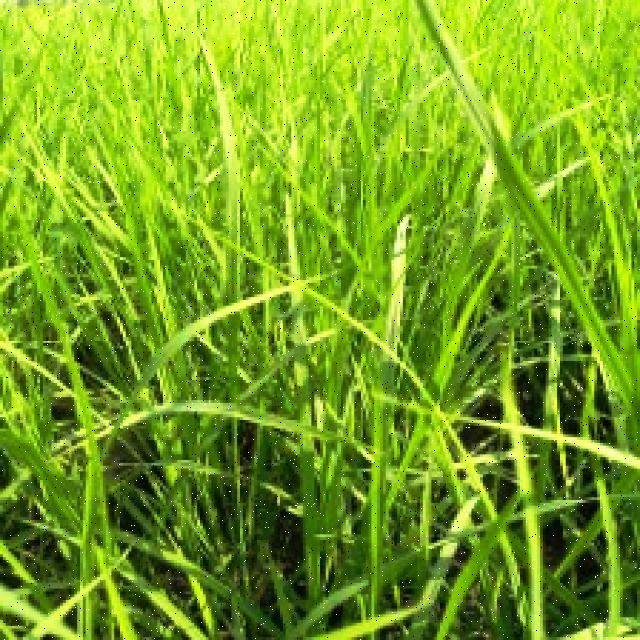health: (3, 0, 426, 220)
